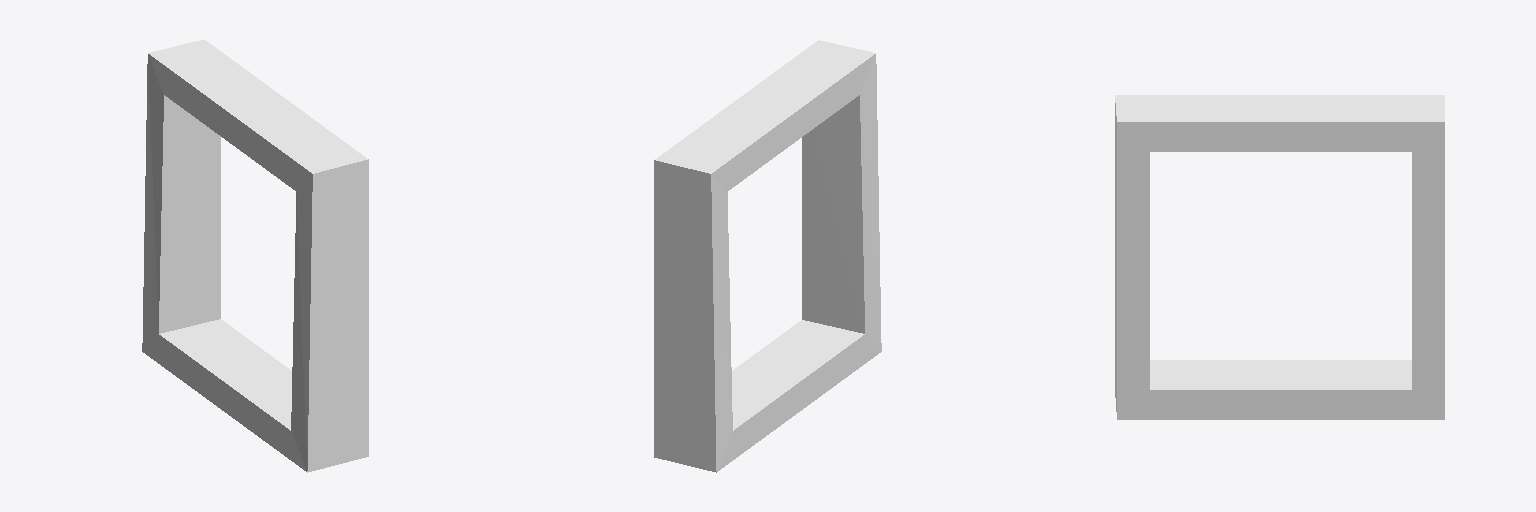
The model's file is lens_cutout.obj.
3 renders of one model, left to right at view 1: azimuth 30°, elevation 25°; view 2: azimuth 150°, elevation 25°; view 3: azimuth 270°, elevation 25°, orthographic.
Parts seen in each view (by area): view 1: Cube.003; view 2: Cube.003; view 3: Cube.003.
Part boxes in pixels (x1,y1,x2,y2): Cube.003: (142,39,368,472); Cube.003: (654,40,881,472); Cube.003: (1115,95,1444,419).
Size of the model in its own units: 0.1368 by 0.625 by 0.6291.